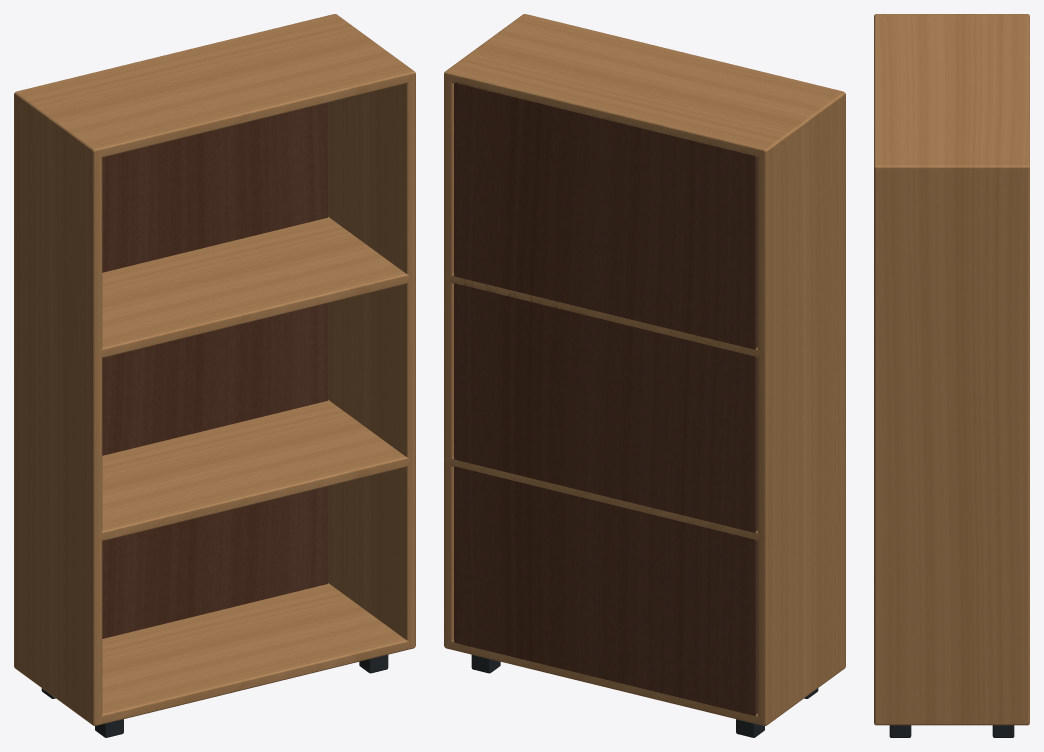
Rendered from bookshelf_01.glb.
The picture shows the model from 3 angles, left to right: view 1: azimuth 30°, elevation 25°; view 2: azimuth 150°, elevation 25°; view 3: azimuth 270°, elevation 25°; orthographic projection. The views are drawn at different scales.
Visible parts, largest first — view 1: bookshelf_01; view 2: bookshelf_01; view 3: bookshelf_01.
Boxes of the visible parts, box(x1,y1,x2,y2) form: bookshelf_01: box(14, 14, 415, 737); bookshelf_01: box(444, 14, 845, 737); bookshelf_01: box(874, 14, 1029, 737).
Size of the model in its own units: 0.604 by 1.07 by 0.26.
Materials: 3 (3 with a texture image).
